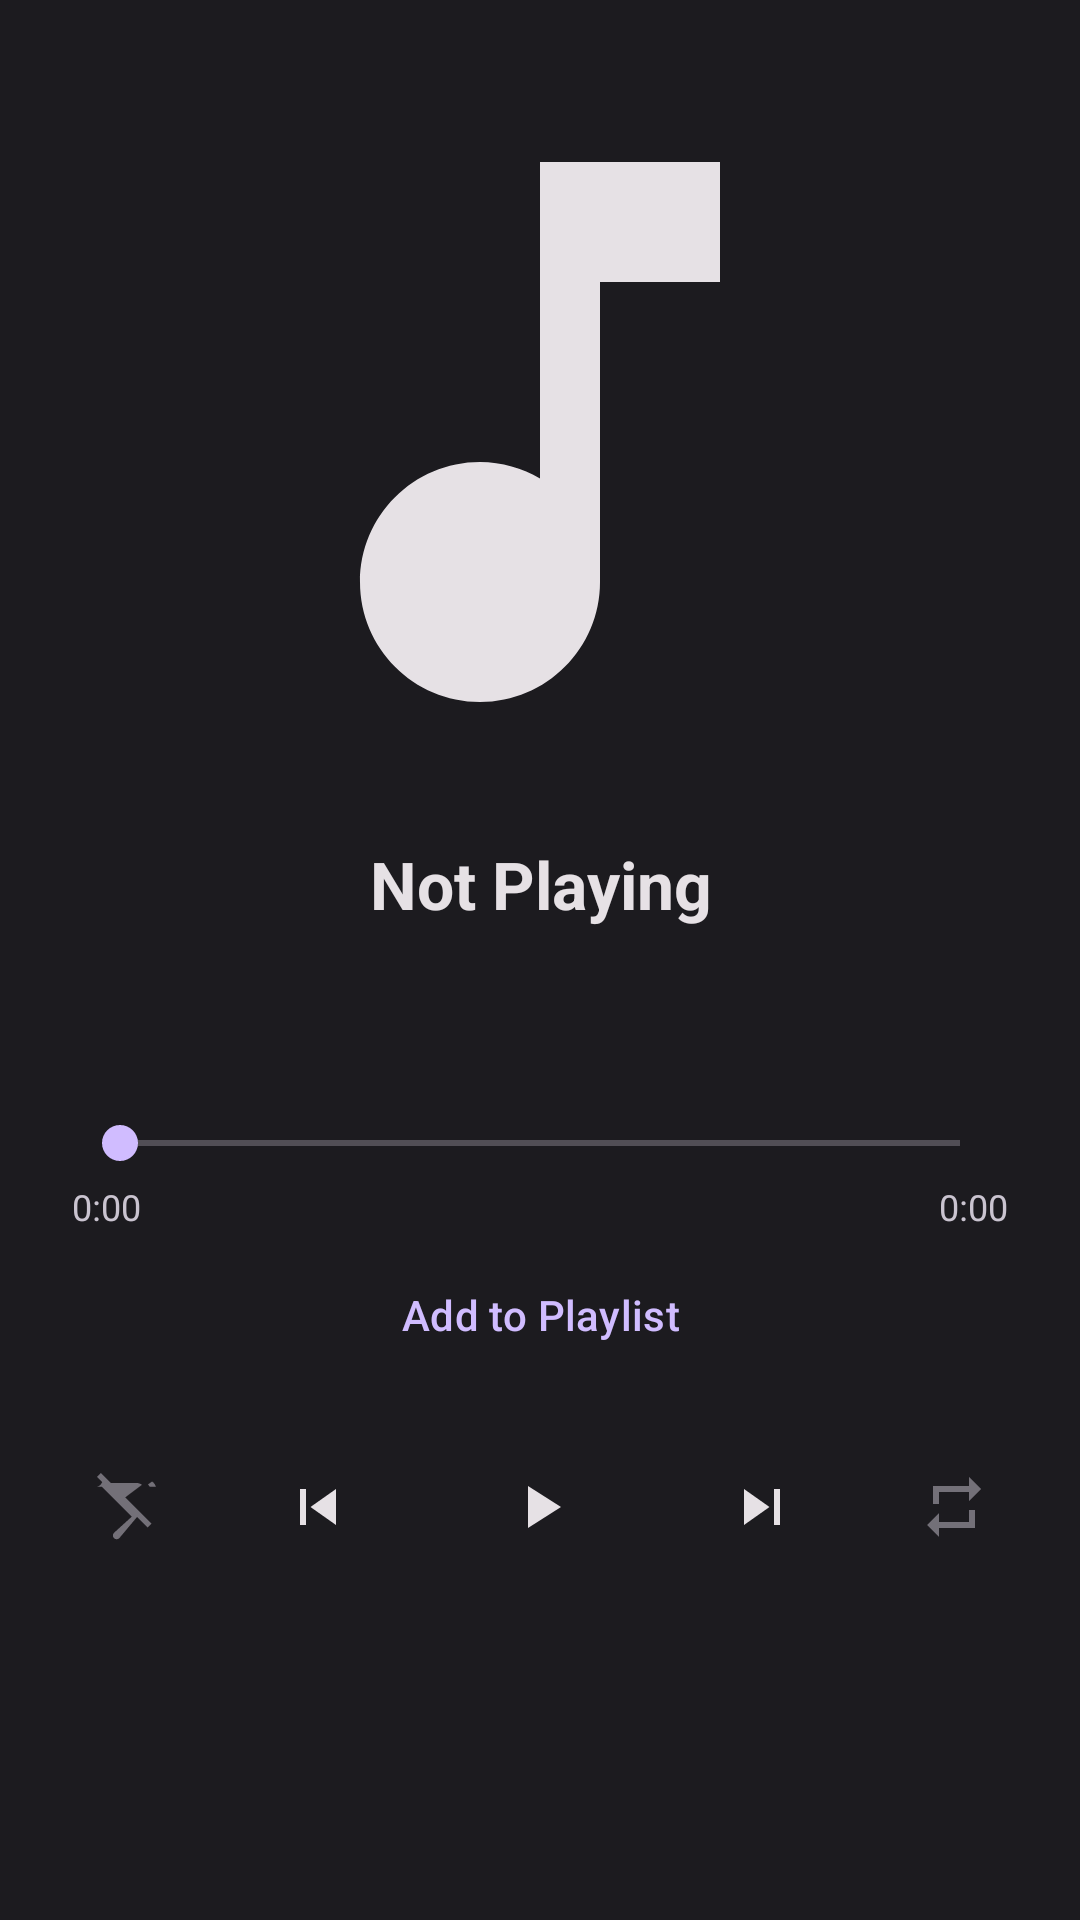

Where to tap for icons on this 1080*1920 app screen, as [x,y]:
Next: [762,1507]
Play/Pause: [544,1507]
Previous: [318,1507]
Repeat: [954,1507]
